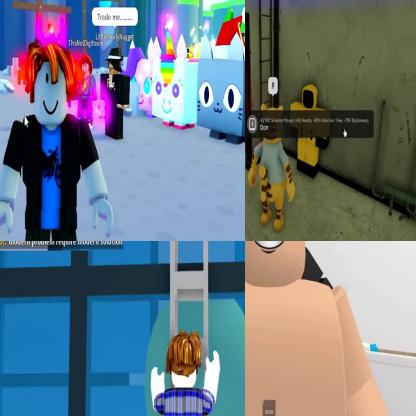Roblox-Avatar: (246, 242, 395, 416), (1, 38, 115, 241), (249, 104, 296, 234), (151, 330, 222, 416)
